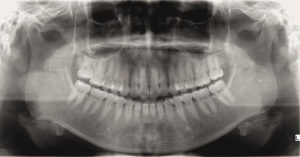canine: (119, 57, 132, 96), (167, 61, 179, 96), (163, 96, 176, 123), (124, 97, 135, 122)
incisor: (139, 63, 150, 100), (129, 62, 140, 99), (149, 64, 159, 98), (159, 62, 168, 96), (132, 98, 142, 124), (155, 100, 166, 123), (141, 101, 149, 119), (150, 101, 156, 122)
molar: (192, 87, 218, 118), (81, 86, 106, 117), (208, 80, 236, 107), (65, 80, 90, 109), (206, 52, 226, 81), (89, 58, 108, 87), (194, 57, 210, 88), (76, 54, 94, 81)
premolar: (179, 92, 201, 125), (98, 91, 118, 120), (110, 59, 126, 92), (171, 94, 188, 125), (176, 60, 188, 92), (114, 92, 125, 125), (184, 59, 196, 89), (104, 57, 114, 92)
